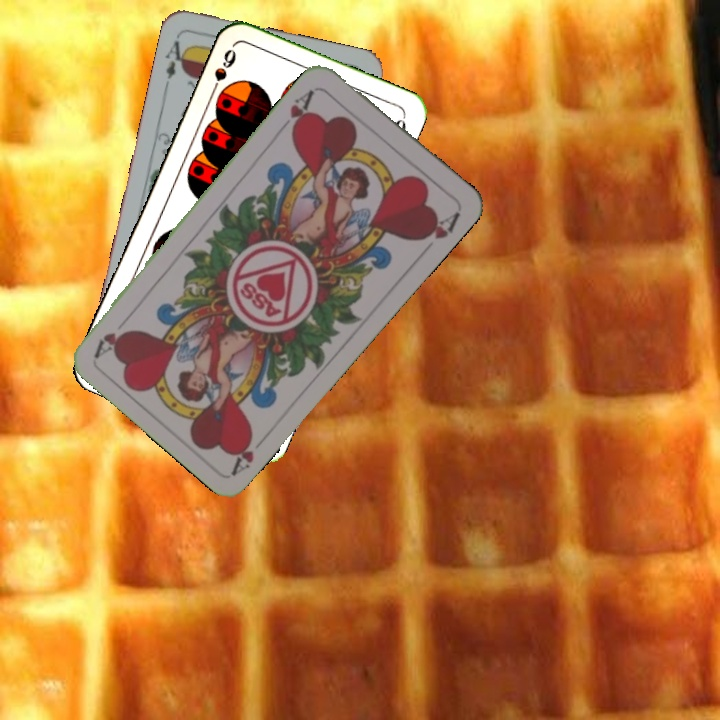EA: (160, 36, 192, 90)
HA: (276, 85, 320, 138), (228, 427, 273, 476)
S9: (206, 45, 239, 99)
